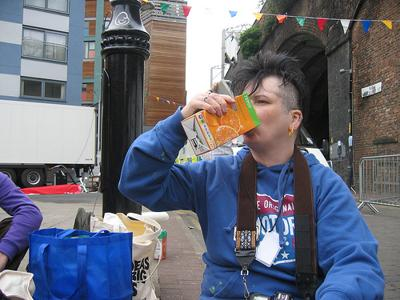person: (112, 51, 387, 300)
